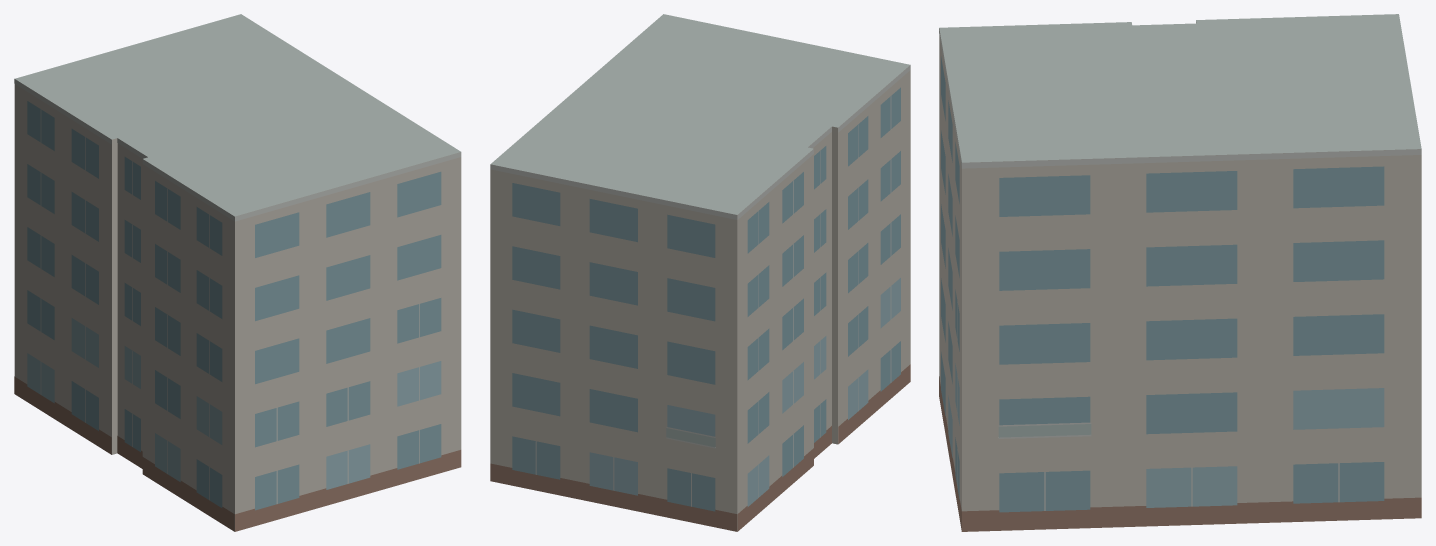
File: survey-upis-32875381.glb
3 views of the same model, side by side, from view 1: azimuth 30°, elevation 25°; view 2: azimuth 150°, elevation 25°; view 3: azimuth 270°, elevation 25° (orthographic). The views are drawn at different scales.
Parts seen in each view (by area): view 1: survey-upis-32875381.tmp; view 2: survey-upis-32875381.tmp; view 3: survey-upis-32875381.tmp.
Boxes of the visible parts, bbox=[...] form: survey-upis-32875381.tmp: bbox=[14, 14, 461, 531]; survey-upis-32875381.tmp: bbox=[490, 14, 910, 531]; survey-upis-32875381.tmp: bbox=[939, 14, 1421, 531].
Size of the model in its own units: 13.18 by 15.25 by 18.07.
